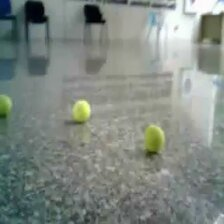tennis: (142, 124, 164, 153), (72, 100, 91, 121), (1, 95, 13, 118)
